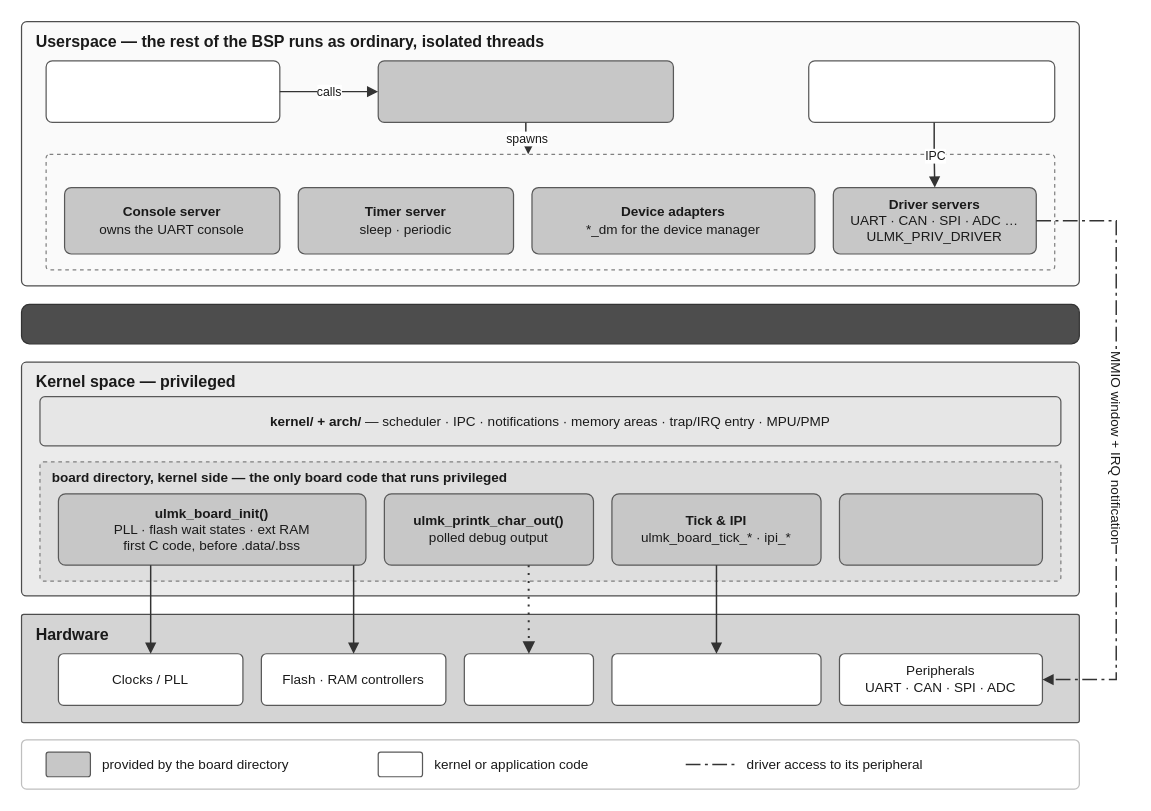
Image size: 1151x811. Some labels were removed from this diagram. The shapes that lost their labels are listed below. From the top down, each one's box as (x1, y1, x2, y2) in pixels, then its label:
(45, 60, 280, 122): Root thread ulmk_root_thread()
(377, 60, 673, 122): board_services_init() board code, called by the root thread
(807, 60, 1055, 122): Applications reach drivers through client shims
(45, 153, 1055, 270): board threads, spawned by board_services_init()
(20, 303, 1079, 344): Syscall gateway — trap · ecall · SVC
(838, 493, 1042, 565): IRQ routing · caches optional, config-gated
(463, 653, 593, 705): Debug UART
(611, 653, 821, 705): System timer
